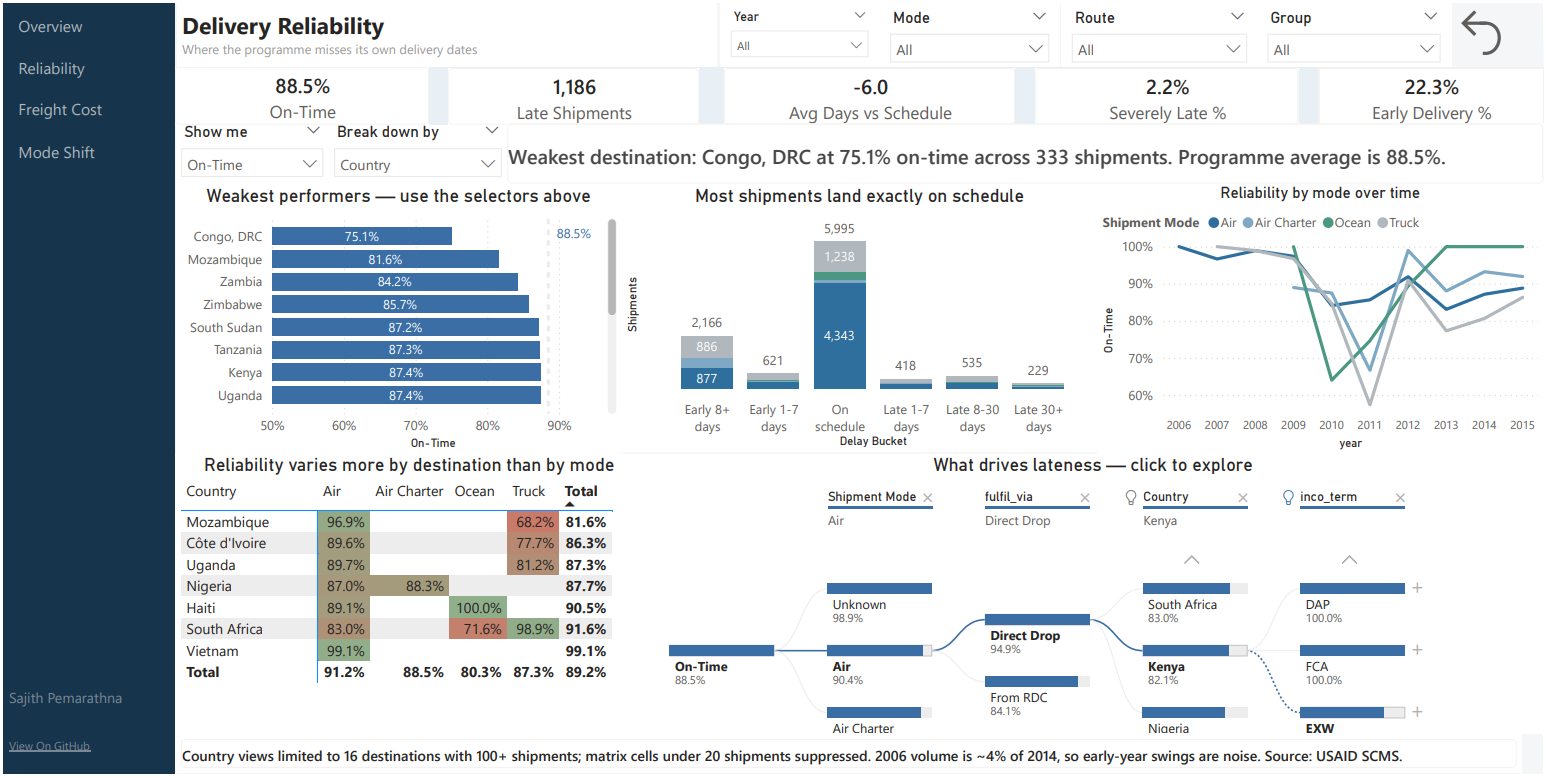

This screenshot's page, from the dashboard's own definition file:
{"tool":"powerbi","page":{"name":"Reliability","canvas":[1440,720],"ordinal":1},"visuals":[{"type":"slicer","fields":{"Values":["dim_date.year"]},"box":[670,0,149.1,58.9],"z":0,"group":"g1"},{"type":"cardVisual","fields":{"Data":["_Measures.On-Time"]},"box":[159.7,58.6,237.7,53.6],"z":0,"group":"g2"},{"type":"slicer","fields":{"Values":["Break down by.Break down by"]},"box":[303.6,112.5,167.9,57.1],"z":0},{"type":"slicer","fields":{"Values":["dim_shipment_mode.Shipment Mode"]},"box":[819.3,0,169,58.8],"z":1000,"group":"g1"},{"type":"cardVisual","fields":{"Data":["_Measures.Late Shipments"]},"box":[415.2,59.1,234.8,53.6],"z":1000,"group":"g2"},{"type":"slicer","title":"Show ","fields":{"Values":["Metric.Metric"]},"box":[160.6,112.2,143.2,56.8],"z":1000},{"type":"group","id":"g1","title":"Group 2","box":[670,0,684.3,58.9],"z":2000},{"type":"slicer","fields":{"Values":["dim_product.Product Group"]},"box":[1172.4,0,181.9,58.8],"z":2000,"group":"g1"},{"type":"cardVisual","fields":{"Data":["_Measures.Avg Days vs Schedule"]},"box":[673.2,59.1,272.5,53.6],"z":2000,"group":"g2"},{"type":"slicer","fields":{"Values":["fact_shipment.fulfil_via"]},"box":[988.7,0,183.9,58.9],"z":3000,"group":"g1"},{"type":"actionButton","box":[1355.2,0,85.1,54.1],"z":3000},{"type":"cardVisual","fields":{"Data":["_Measures.Severely Late %"]},"box":[964.5,59.1,246.4,53.6],"z":3000,"group":"g2"},{"type":"group","id":"g2","title":"Group 1","box":[159.7,58.6,1280.5,54.2],"z":4000},{"type":"cardVisual","fields":{"Data":["_Measures.Early Delivery %"]},"box":[1229.2,59.8,211,52.7],"z":4000,"group":"g2"},{"type":"cardVisual","fields":{"Data":["_Measures.Reliability Insight"]},"box":[471.4,112.5,968.7,55.4],"z":5000},{"type":"barChart","title":"Weakest performers — use the selectors above","fields":{"Category":["dim_country.Country"],"Y":["_Measures.On-Time"]},"box":[161,168.8,416.9,251.9],"z":6000},{"type":"columnChart","title":"Most shipments land exactly on schedule","fields":{"Category":["fact_shipment.Delay Bucket"],"Y":["_Measures.Shipments"],"Series":["dim_shipment_mode.Shipment Mode"]},"box":[577.9,168.8,445.5,250.6],"z":7000},{"type":"lineChart","title":"Reliability by mode over time ","fields":{"Category":["dim_date.year"],"Y":["_Measures.On-Time"],"Series":["dim_shipment_mode.Shipment Mode"]},"box":[1023.4,168.8,416.9,251.9],"z":8000},{"type":"pivotTable","title":"Reliability varies more by destination than by mode","fields":{"Rows":["dim_country.Country"],"Columns":["dim_shipment_mode.Shipment Mode"],"Values":["_Measures.On-Time (suppressed)"]},"box":[160.6,420.8,437.5,261.1],"z":9000},{"type":"decompositionTreeVisual","title":"What drives lateness — click to explore","fields":{"ExplainBy":["dim_shipment_mode.Shipment Mode","fact_shipment.fulfil_via","dim_country.Country","fact_shipment.inco_term","dim_product.Product Group"],"Analyze":["_Measures.On-Time"]},"box":[598.2,420.5,842,261.6],"z":10000},{"type":"cardVisual","fields":{"Data":["_Measures.Reliability Footnote"]},"box":[160.6,681.9,1259.7,37.5],"z":13000},{"type":"textbox","box":[162,0,505.4,59.5],"z":14000},{"type":"shape","box":[0,0,159.8,719.5],"z":15000},{"type":"actionButton","box":[0,0,160,40],"z":16000},{"type":"actionButton","box":[0,40.2,159.8,40.2],"z":17000},{"type":"actionButton","box":[0,77.9,159.7,40.3],"z":18000},{"type":"actionButton","box":[0,118.2,159.7,39],"z":19000},{"type":"textbox","box":[0,677.6,159.7,41.8],"z":20000},{"type":"textbox","box":[0,634.3,159.7,41.8],"z":21000}]}

Visuals, with their boxes on the page's 1440x720 design canvas (x1, y1, x2, y2). These are canvas units, not pixel positions in the 1546x778 screenshot, which may show the page scaled, cropped or inside an application window:
slicer - dim_date.year: bbox=[670, 0, 819, 59]
cardVisual - _Measures.On-Time: bbox=[160, 59, 397, 112]
slicer - Break down by.Break down by: bbox=[304, 112, 472, 170]
slicer - dim_shipment_mode.Shipment Mode: bbox=[819, 0, 988, 59]
cardVisual - _Measures.Late Shipments: bbox=[415, 59, 650, 113]
"Show " slicer: bbox=[161, 112, 304, 169]
"Group 2" group: bbox=[670, 0, 1354, 59]
slicer - dim_product.Product Group: bbox=[1172, 0, 1354, 59]
cardVisual - _Measures.Avg Days vs Schedule: bbox=[673, 59, 946, 113]
slicer - fact_shipment.fulfil_via: bbox=[989, 0, 1173, 59]
actionButton: bbox=[1355, 0, 1440, 54]
cardVisual - _Measures.Severely Late %: bbox=[964, 59, 1211, 113]
"Group 1" group: bbox=[160, 59, 1440, 113]
cardVisual - _Measures.Early Delivery %: bbox=[1229, 60, 1440, 112]
cardVisual - _Measures.Reliability Insight: bbox=[471, 112, 1440, 168]
"Weakest performers — use the selectors above" barChart: bbox=[161, 169, 578, 421]
"Most shipments land exactly on schedule" columnChart: bbox=[578, 169, 1023, 419]
"Reliability by mode over time " lineChart: bbox=[1023, 169, 1440, 421]
"Reliability varies more by destination than by mode" pivotTable: bbox=[161, 421, 598, 682]
"What drives lateness — click to explore" decompositionTreeVisual: bbox=[598, 420, 1440, 682]
cardVisual - _Measures.Reliability Footnote: bbox=[161, 682, 1420, 719]
textbox: bbox=[162, 0, 667, 60]
shape: bbox=[0, 0, 160, 720]
actionButton: bbox=[0, 0, 160, 40]
actionButton: bbox=[0, 40, 160, 80]
actionButton: bbox=[0, 78, 160, 118]
actionButton: bbox=[0, 118, 160, 157]
textbox: bbox=[0, 678, 160, 719]
textbox: bbox=[0, 634, 160, 676]
